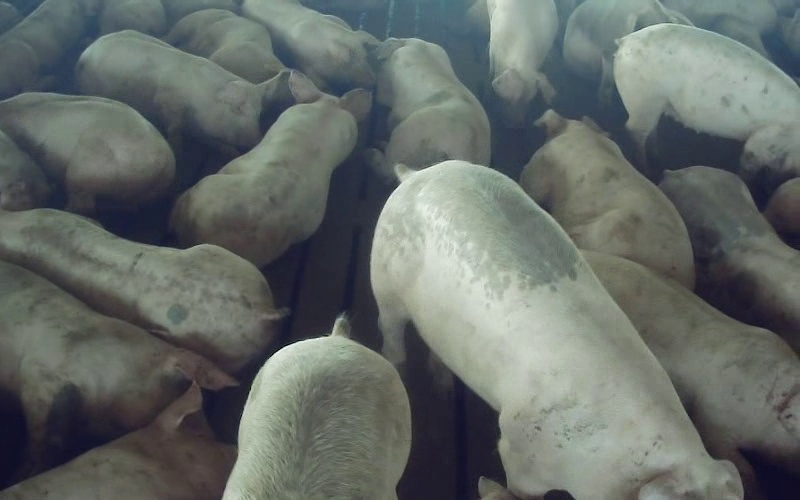pig: (582, 251, 799, 495), (170, 71, 370, 266), (223, 316, 410, 499), (520, 110, 694, 288), (614, 24, 799, 177), (0, 382, 236, 499), (659, 166, 799, 352), (76, 30, 285, 149), (365, 38, 490, 177), (563, 0, 691, 105), (243, 0, 378, 93), (164, 9, 284, 83), (487, 0, 557, 126)
